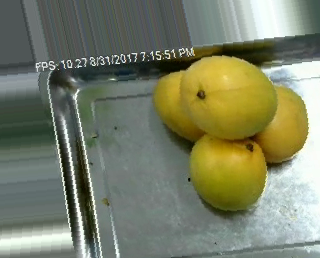Mango: (182, 56, 278, 138), (191, 130, 267, 209), (240, 85, 307, 163), (153, 70, 214, 140)
